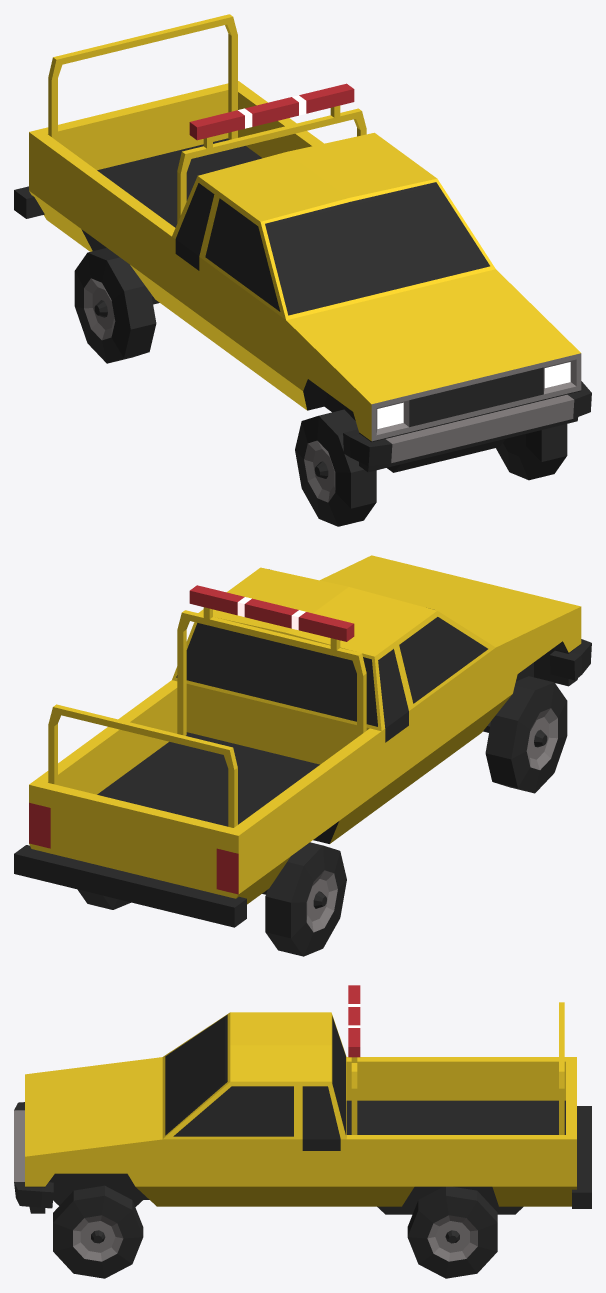
File: vehicles_car-baywatch.fbx
The picture shows the model from 3 angles, top to bottom: view 1: azimuth 30°, elevation 25°; view 2: azimuth 150°, elevation 25°; view 3: azimuth 270°, elevation 25°; orthographic projection. The views are drawn at different scales.
Visible parts, largest first — view 1: car_baywatch_base, car_baywatch_wheel_BR, car_baywatch_wheel_FR, car_baywatch_wheel_FL; view 2: car_baywatch_base, car_baywatch_wheel_FR, car_baywatch_wheel_BR; view 3: car_baywatch_base, car_baywatch_wheel_FL, car_baywatch_wheel_BL.
Part boxes in pixels (x1,y1,x2,y2): car_baywatch_base: (14, 14, 591, 472); car_baywatch_wheel_BR: (74, 248, 156, 363); car_baywatch_wheel_FR: (295, 409, 376, 526); car_baywatch_wheel_FL: (496, 424, 567, 480); car_baywatch_base: (14, 555, 591, 927); car_baywatch_wheel_FR: (485, 676, 567, 793); car_baywatch_wheel_BR: (265, 842, 346, 956); car_baywatch_base: (14, 985, 591, 1214); car_baywatch_wheel_FL: (53, 1185, 143, 1278); car_baywatch_wheel_BL: (407, 1186, 497, 1278).
Bounding box in the file's own units: 74.42 × 84.09 × 200.
